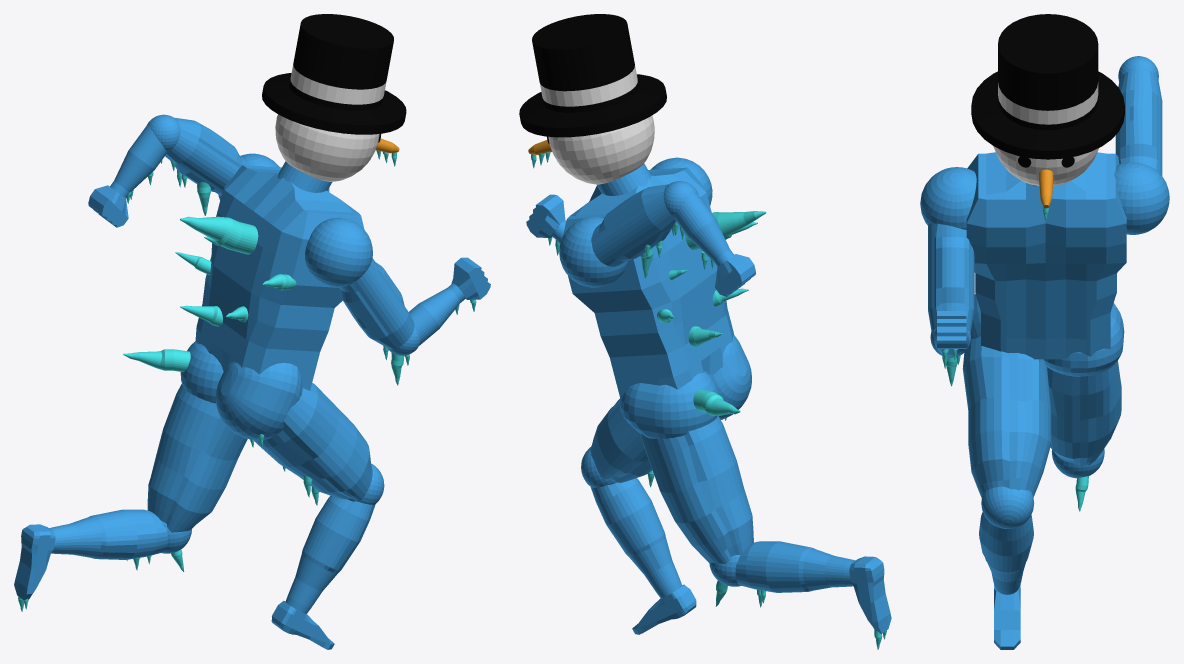
Rendered from persogelé.fbx.
The picture shows the model from 3 angles, left to right: view 1: azimuth 30°, elevation 25°; view 2: azimuth 150°, elevation 25°; view 3: azimuth 270°, elevation 25°; orthographic projection. The views are drawn at different scales.
Parts seen in each view (by area): view 1: torse, chapeau, cuissegauche, cuissegauche.001, fessegauche.001, molet.001, molet, tete, brasdroit, epauledroite, brasgauche, piedgauche (+10 smaller); view 2: torse, chapeau, cuissegauche, molet.001, molet, tete, brasgauche, fessegauche, cuissegauche.001, epaulegauche, piedgauche, avantbrasgauche (+11 smaller); view 3: torse, chapeau, cuissegauche.001, cuissegauche, brasdroit, brasgauche, epaulegauche, molet.001, epauledroite, fessegauche, genougauche.001, tete (+5 smaller).
Part boxes in pixels (box(x1,y1,x2,y2)): torse: box(195, 165, 364, 390); chapeau: box(262, 14, 406, 134); cuissegauche: box(147, 384, 247, 532); cuissegauche.001: box(254, 383, 372, 500); fessegauche.001: box(216, 362, 302, 440); molet.001: box(285, 495, 375, 613); molet: box(49, 509, 167, 559); tete: box(275, 114, 379, 181); brasdroit: box(339, 258, 414, 349); epauledroite: box(305, 217, 372, 287); brasgauche: box(165, 117, 245, 195); piedgauche: box(14, 524, 55, 599); torse: box(562, 167, 733, 401); chapeau: box(519, 14, 666, 137); cuissegauche: box(640, 416, 753, 563); molet.001: box(590, 478, 682, 597); molet: box(735, 541, 855, 592); tete: box(548, 115, 654, 184); brasgauche: box(591, 184, 676, 266); fessegauche: box(619, 371, 718, 438); cuissegauche.001: box(590, 399, 652, 482); epaulegauche: box(559, 216, 627, 287); piedgauche: box(849, 556, 891, 633); avantbrasgauche: box(675, 193, 733, 266); torse: box(966, 152, 1126, 359); chapeau: box(971, 14, 1124, 159); cuissegauche.001: box(962, 336, 1051, 498); cuissegauche: box(1047, 360, 1121, 466); brasdroit: box(928, 223, 974, 332); brasgauche: box(1115, 69, 1162, 175); epaulegauche: box(1114, 162, 1169, 234); molet.001: box(979, 512, 1033, 594); epauledroite: box(920, 167, 976, 229); fessegauche: box(1043, 303, 1124, 376); genougauche.001: box(981, 486, 1034, 528); tete: box(993, 146, 1098, 186).
Size of the model in its own units: 523 by 743 by 264.
